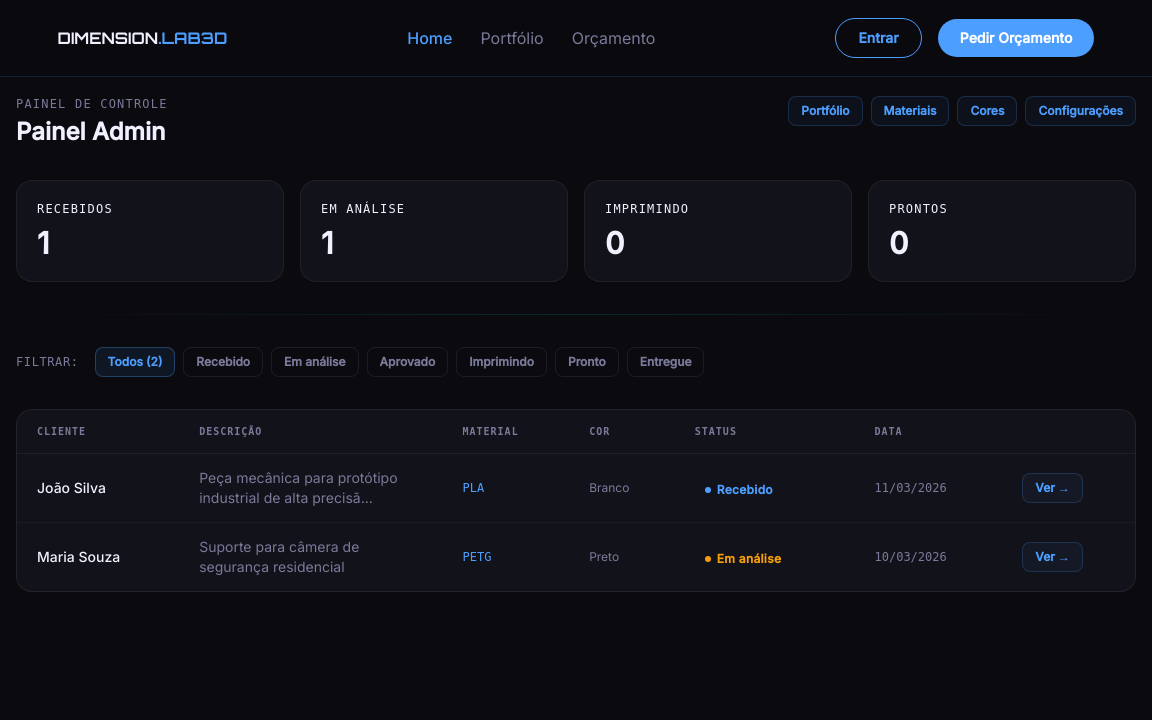
AdminDashboard page › filters quotes by status when filter button clicked
Expected: the text "João Silva" is shown, [17,454,179,522]
Note: Click "Em análise" filter
What coordinates should you click on to do the following:
click the button "Em análise"
I would click on:
 (315, 362)
Its box is [271,347,359,377].
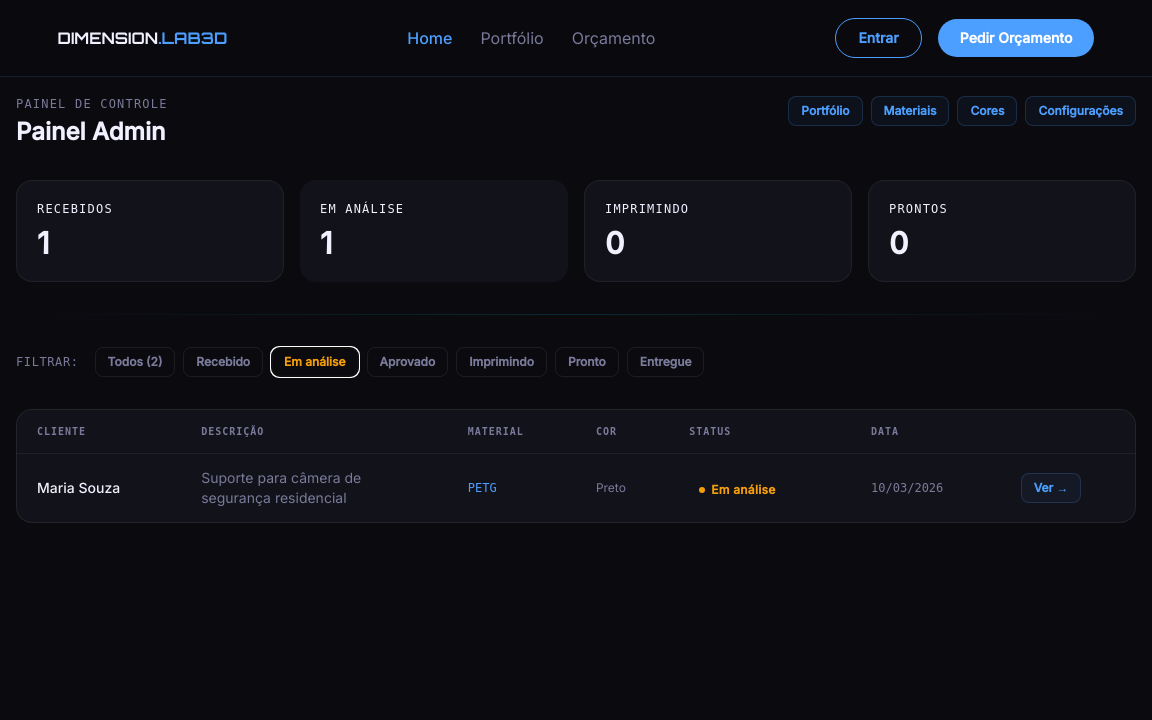
Expected: the text "Maria Souza" is shown, [17,454,181,522]
Result: the text "João Silva" is not shown
